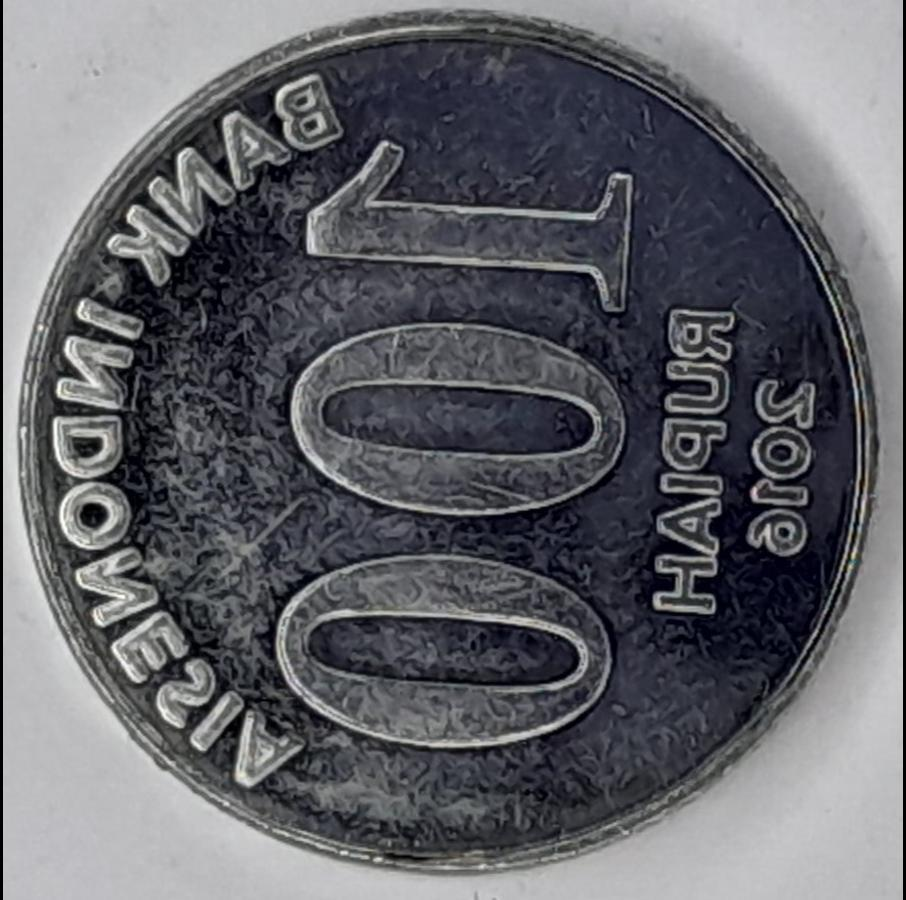coin_100_e2016: (13, 3, 885, 876)
